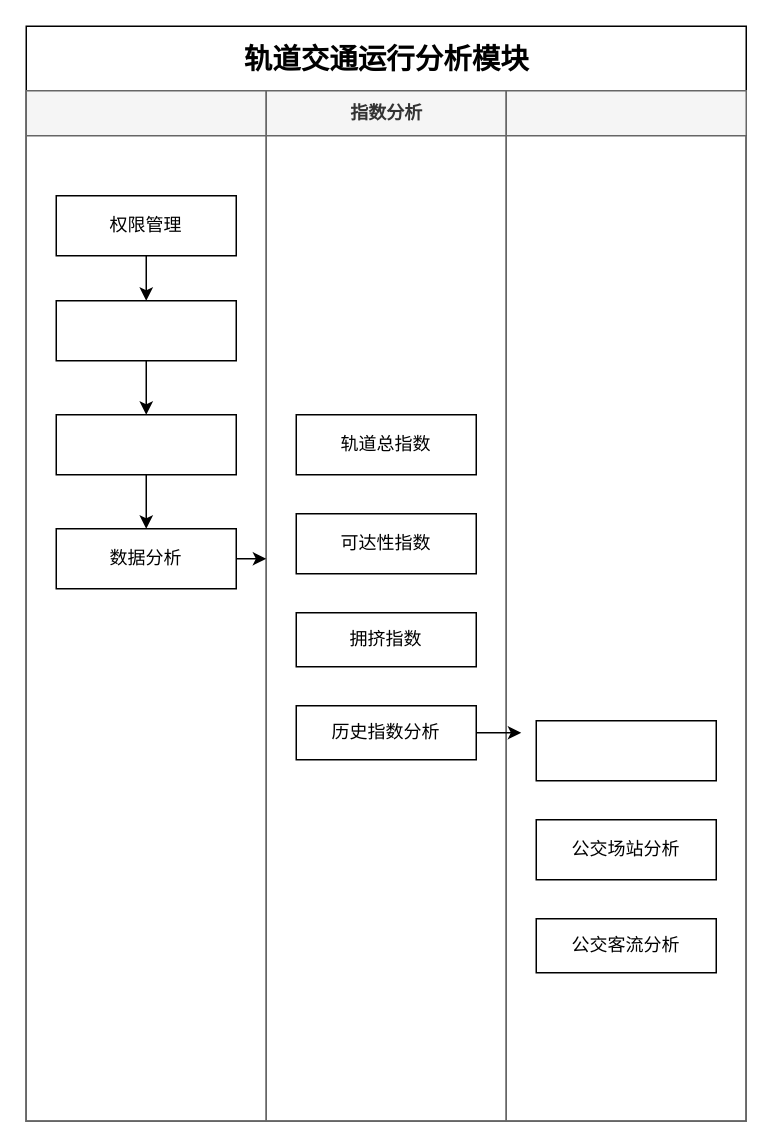
Some shapes in this 773 by 1148 pixel diagram are drawn without their labels. The box of each missing label's shape, as (x1, y1, x2, y2) in pixels:
场站客流: (505, 89, 746, 1121)
数据处理: (25, 89, 266, 1121)
网站运行监控: (55, 299, 236, 361)
轨道数据监控: (55, 413, 236, 475)
轨道线路分析: (535, 719, 716, 781)
